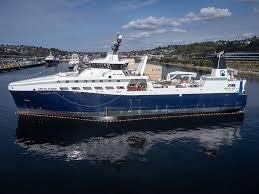Ship: (9, 35, 247, 123)
